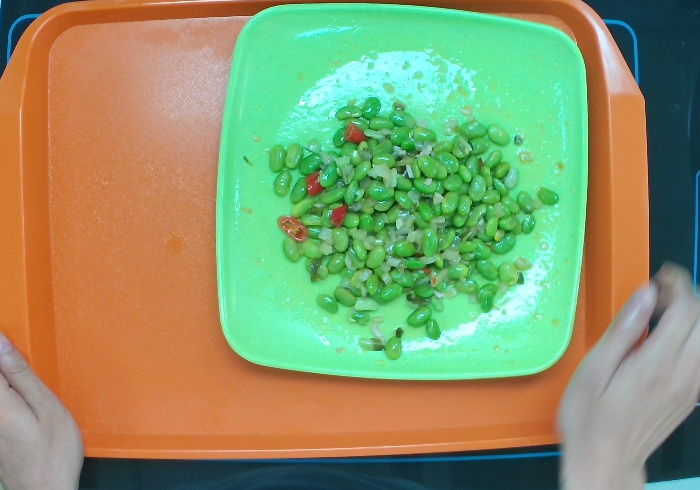ZNLD-Lv_Fang_Pan: (210, 1, 592, 383)
